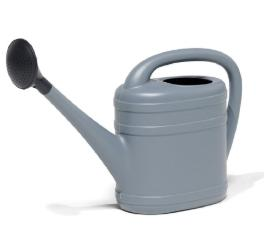ARROSOIR: (0, 31, 253, 220)
